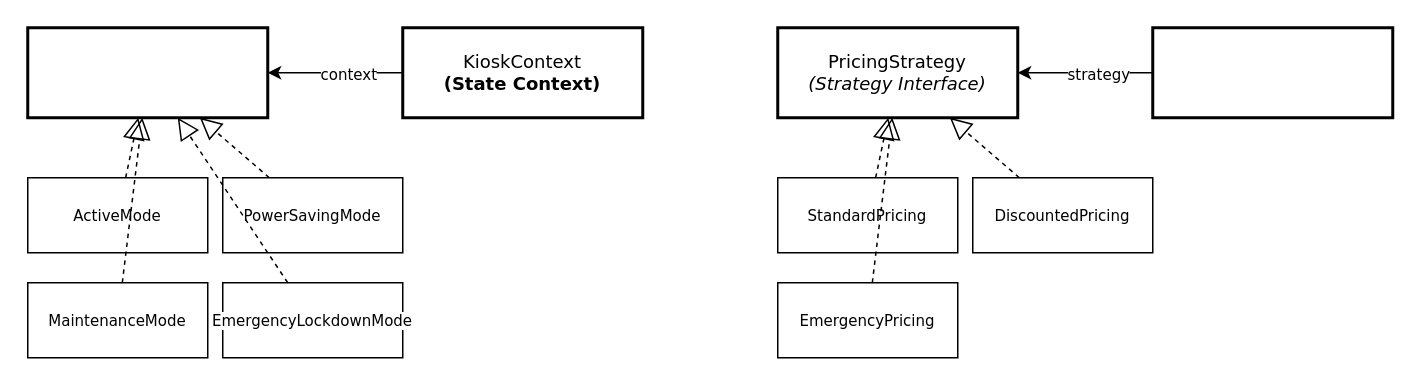
Some shapes in this 1419 by 384 pixel diagram are drawn without their labels. Here are the shapes that lost their labels. From the top down, the box of each, then its label:
(26, 26, 268, 118): KioskState (State Interface)
(1150, 26, 1394, 118): PricingContext (Strategy Context)
